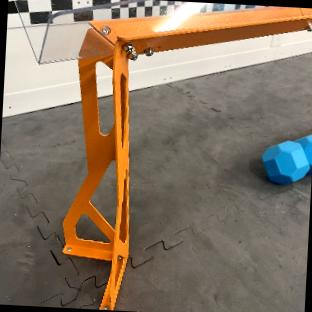Goal: (24, 1, 312, 309)
V5_BLUE: (261, 133, 312, 184)
